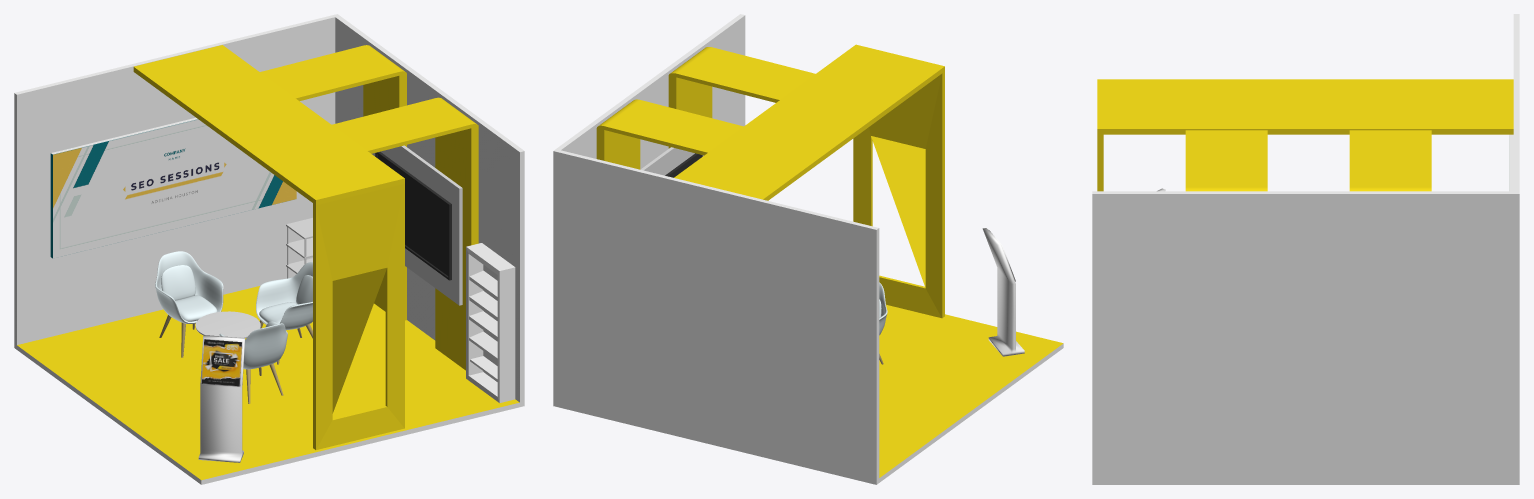
The model's file is StandBundle 3.fbx.
3 renders of one model, left to right at view 1: azimuth 30°, elevation 25°; view 2: azimuth 150°, elevation 25°; view 3: azimuth 270°, elevation 25°, orthographic. The views are drawn at different scales.
Visible parts, largest first — view 1: Cube, Cube.001, Cube.008, Cube.011, Cube.013, Cube.010, Cube.017, Cube.009, Plane.001, Plane, Cube.012, Plane.002 (+3 smaller); view 2: Cube, Cube.001, Cube.008, Cube.017, Cube.009; view 3: Cube, Cube.001.
Part boxes in pixels (x1=…): Cube: x1=14, y1=14, x2=524, y2=484; Cube.001: x1=133, y1=45, x2=478, y2=449; Cube.008: x1=17, y1=286, x2=519, y2=480; Cube.011: x1=50, y1=117, x2=296, y2=258; Cube.013: x1=466, y1=243, x2=515, y2=402; Cube.010: x1=375, y1=151, x2=451, y2=280; Cube.017: x1=198, y1=335, x2=244, y2=462; Cube.009: x1=372, y1=145, x2=462, y2=305; Plane.001: x1=256, y1=262, x2=312, y2=330; Plane: x1=155, y1=251, x2=223, y2=323; Cube.012: x1=201, y1=339, x2=242, y2=386; Plane.002: x1=219, y1=321, x2=287, y2=369; Cube: x1=553, y1=14, x2=1063, y2=484; Cube.001: x1=596, y1=44, x2=944, y2=318; Cube.008: x1=879, y1=304, x2=1063, y2=477; Cube.017: x1=982, y1=228, x2=1024, y2=356; Cube.009: x1=640, y1=147, x2=703, y2=175; Cube: x1=1092, y1=14, x2=1519, y2=484; Cube.001: x1=1097, y1=79, x2=1513, y2=191.
Bounding box in the file's own units: 1978 × 1491 × 1984.
15 materials, 2 textured.
